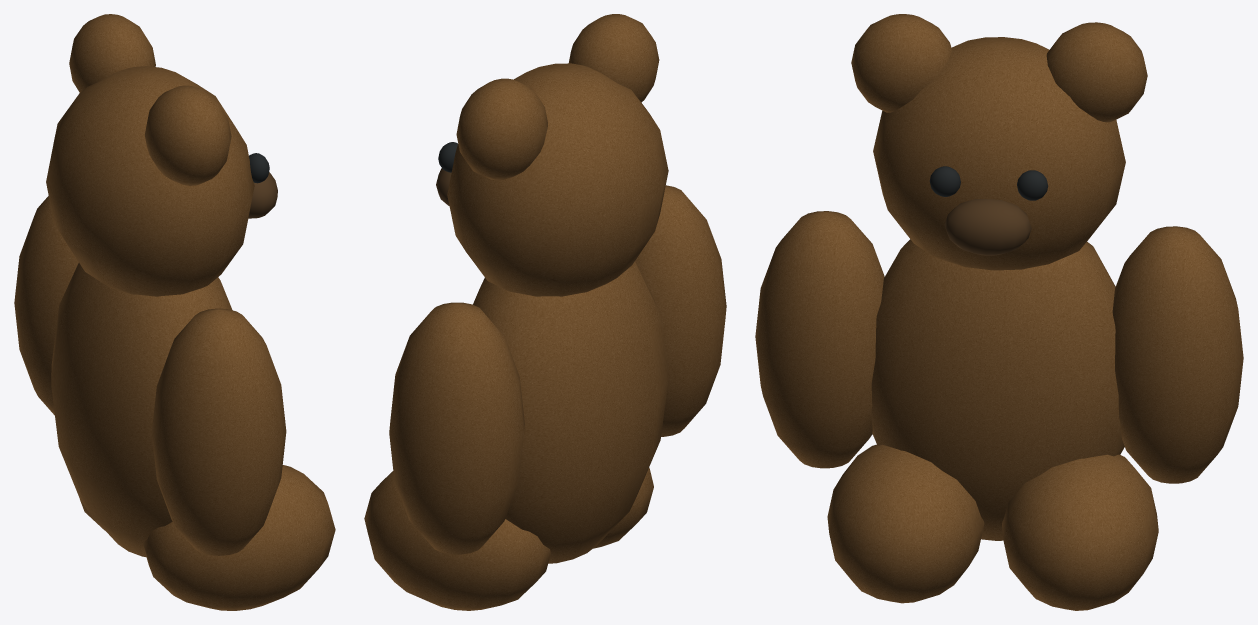
The model's file is SM_TeddyPrize_46c6506730.fbx.
The picture shows the model from 3 angles, left to right: view 1: azimuth 30°, elevation 25°; view 2: azimuth 150°, elevation 25°; view 3: azimuth 270°, elevation 25°; orthographic projection. The views are drawn at different scales.
Visible parts, largest first — view 1: SM_TeddyPrize_46c6506730; view 2: SM_TeddyPrize_46c6506730; view 3: SM_TeddyPrize_46c6506730.
Boxes of the visible parts, x1,y1,x2,y2 form: SM_TeddyPrize_46c6506730: (14, 14, 335, 610); SM_TeddyPrize_46c6506730: (364, 14, 726, 610); SM_TeddyPrize_46c6506730: (755, 14, 1243, 610).
Size of what is drawn, in the model's own units: 33.86 by 59.18 by 73.31.
3 materials, 1 textured.
